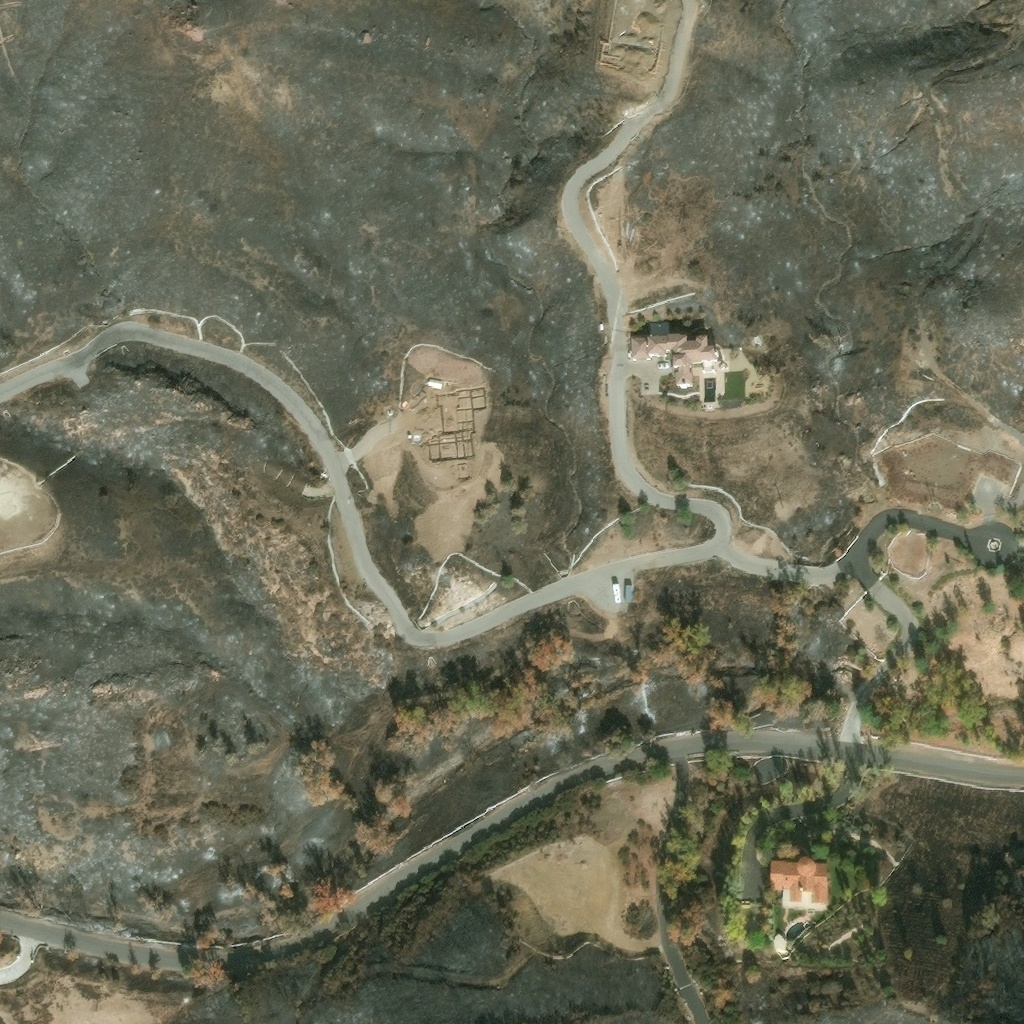0 no-damage: (632, 335, 717, 390), (770, 859, 830, 912), (428, 379, 445, 390)
